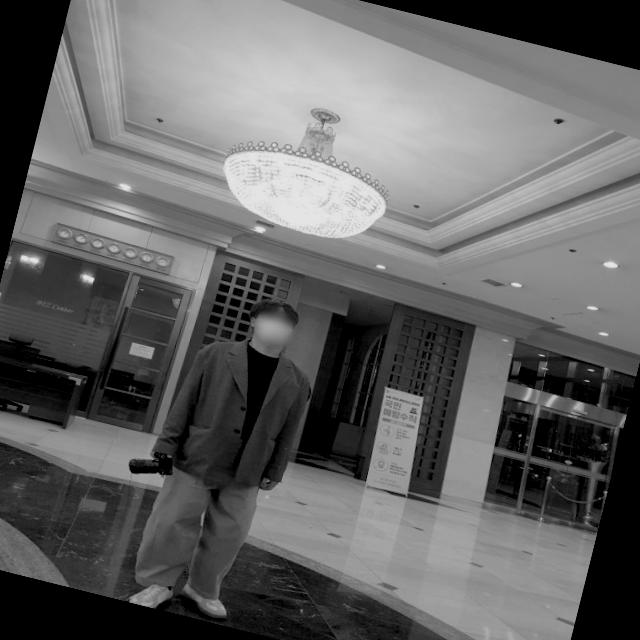blazer: (148, 328, 316, 497)
cottonpants: (131, 462, 257, 607)
